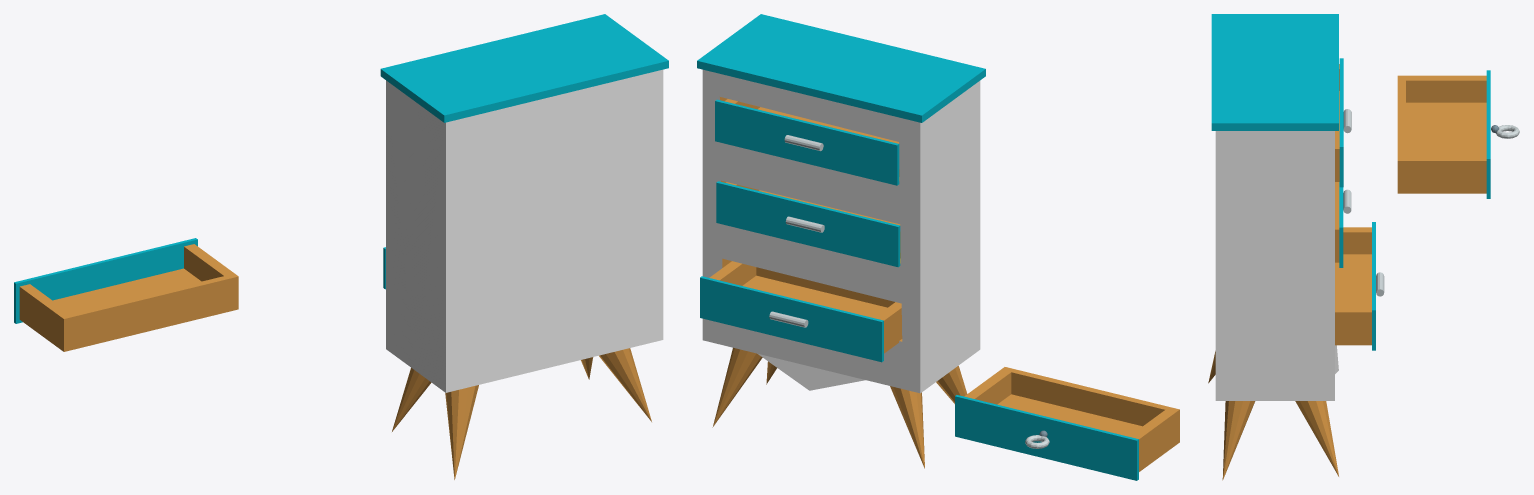
The model's file is cajones.fbx.
3 renders of one model, left to right at view 1: azimuth 30°, elevation 25°; view 2: azimuth 150°, elevation 25°; view 3: azimuth 270°, elevation 25°, orthographic.
Visible parts, largest first — view 1: group90872666, group750127364, group607731398, group667268217, group1159920088, group692613446; view 2: group90872666, group1428537811, group352608794, group1736875821, group607731398, group750127364, group667268217, group1159920088, group692613446; view 3: group90872666, group1428537811, group667268217, group692613446, group1159920088, group750127364, group352608794, group1736875821, group607731398.
Boxes of the visible parts, x1=… form: group90872666: x1=380, y1=14, x2=668, y2=479; group750127364: x1=60, y1=273, x2=238, y2=351; group607731398: x1=14, y1=238, x2=197, y2=323; group667268217: x1=53, y1=268, x2=201, y2=313; group1159920088: x1=19, y1=284, x2=69, y2=348; group692613446: x1=184, y1=244, x2=234, y2=281; group90872666: x1=697, y1=14, x2=985, y2=468; group1428537811: x1=700, y1=261, x2=902, y2=362; group352608794: x1=715, y1=99, x2=899, y2=185; group1736875821: x1=716, y1=181, x2=900, y2=267; group607731398: x1=955, y1=395, x2=1138, y2=480; group750127364: x1=1001, y1=367, x2=1179, y2=444; group667268217: x1=997, y1=394, x2=1142, y2=436; group1159920088: x1=1129, y1=410, x2=1175, y2=471; group692613446: x1=964, y1=370, x2=1011, y2=404; group90872666: x1=1208, y1=14, x2=1338, y2=480; group1428537811: x1=1335, y1=222, x2=1384, y2=350; group667268217: x1=1406, y1=102, x2=1486, y2=155; group692613446: x1=1406, y1=155, x2=1486, y2=193; group1159920088: x1=1406, y1=75, x2=1486, y2=102; group750127364: x1=1397, y1=75, x2=1405, y2=193; group352608794: x1=1335, y1=58, x2=1351, y2=187; group1736875821: x1=1335, y1=182, x2=1351, y2=267; group607731398: x1=1486, y1=70, x2=1490, y2=198.
Size of the model in its own units: 145 by 98.18 by 75.82.
